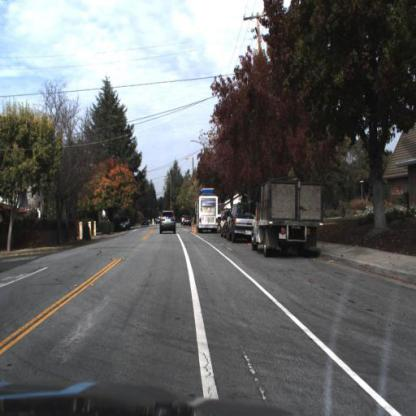car: (253, 173, 326, 262), (193, 186, 221, 238), (196, 192, 221, 232), (225, 202, 244, 243), (158, 210, 179, 239), (119, 215, 133, 236), (118, 217, 132, 234), (140, 215, 153, 230)
truck: (250, 173, 325, 259)
